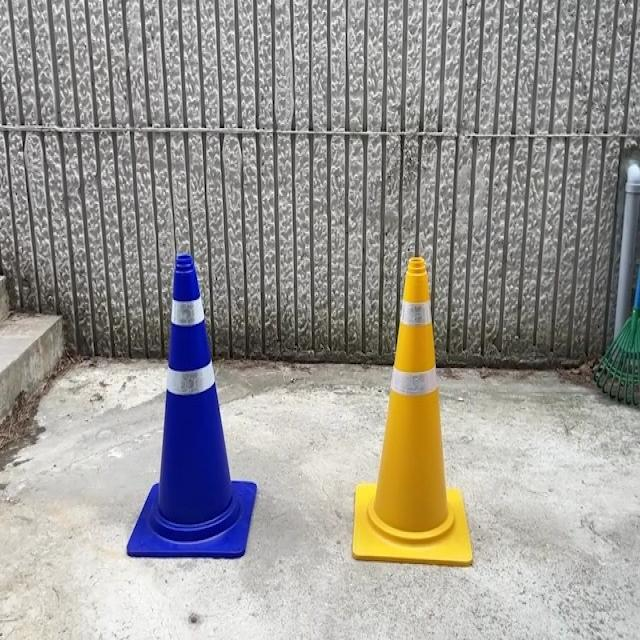b_rub: (127, 253, 257, 559)
y_rub: (353, 257, 474, 566)
